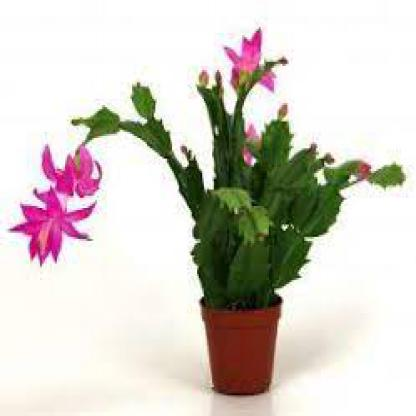Aglonema: (105, 152, 376, 355)
